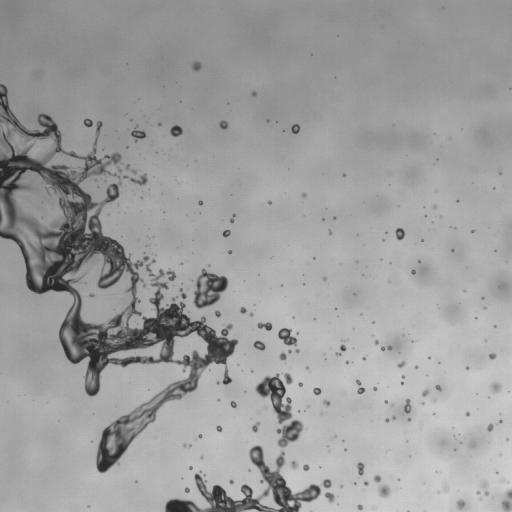droplet: (193, 269, 228, 308), (131, 127, 146, 141), (378, 484, 390, 497), (170, 125, 182, 136), (253, 340, 265, 350), (490, 382, 501, 392), (395, 228, 404, 240), (325, 492, 335, 502), (404, 399, 411, 413), (357, 462, 364, 476), (192, 61, 201, 71), (322, 478, 331, 488), (83, 118, 92, 127), (456, 499, 465, 508), (291, 124, 299, 134), (219, 120, 227, 129), (290, 460, 298, 469), (252, 421, 259, 431), (313, 387, 321, 395), (279, 352, 286, 360), (397, 360, 405, 367), (223, 230, 230, 237), (422, 389, 429, 396), (323, 400, 330, 407), (486, 424, 493, 431), (373, 475, 380, 482), (340, 344, 346, 351), (489, 353, 496, 359), (230, 401, 237, 407), (240, 307, 246, 313), (216, 425, 222, 431), (303, 464, 309, 470), (215, 310, 220, 317), (436, 385, 441, 391), (184, 487, 189, 493), (443, 486, 448, 492), (357, 504, 362, 510), (89, 293, 94, 298), (252, 91, 256, 96), (198, 200, 202, 205), (374, 339, 378, 344), (335, 352, 340, 356), (373, 386, 377, 391), (497, 420, 502, 424), (302, 193, 306, 197), (433, 204, 437, 208), (328, 230, 332, 234), (411, 270, 415, 274), (249, 312, 253, 316), (414, 365, 418, 369), (298, 382, 302, 386), (385, 418, 389, 422), (198, 434, 202, 438), (229, 480, 233, 484), (364, 481, 368, 485), (158, 122, 161, 126), (466, 412, 469, 416), (268, 201, 271, 204), (228, 250, 231, 253), (323, 277, 326, 280), (288, 350, 291, 353), (401, 375, 404, 378), (51, 201, 53, 205), (345, 361, 348, 363), (306, 366, 308, 369), (466, 366, 468, 369), (400, 382, 403, 384), (392, 416, 394, 419), (408, 418, 410, 421), (183, 444, 186, 446), (189, 467, 192, 469), (502, 478, 504, 481), (343, 174, 345, 176), (471, 445, 473, 447)
ligament: (0, 83, 238, 473), (165, 373, 319, 511), (278, 328, 299, 353), (501, 487, 511, 511), (257, 322, 272, 330), (356, 379, 364, 394), (480, 480, 488, 495), (124, 164, 136, 173), (179, 289, 186, 298), (476, 490, 481, 500), (230, 214, 235, 222), (381, 346, 391, 350), (0, 211, 2, 223)
